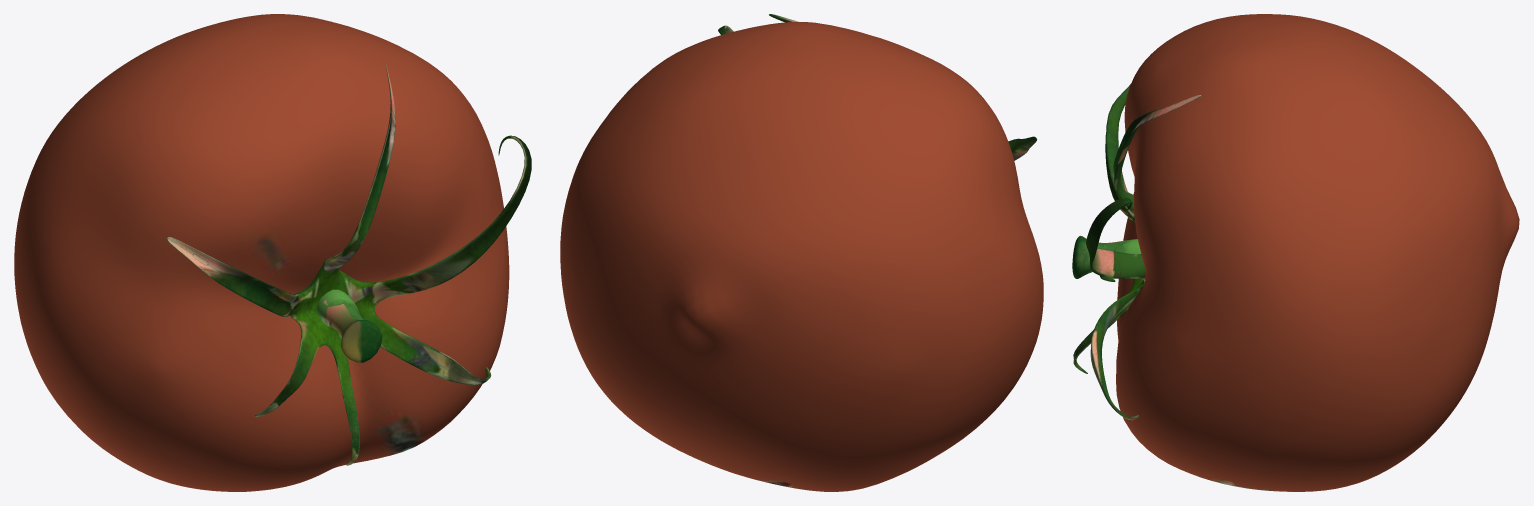
Rendered from tomatorotten5.glb.
3 views of the same model, side by side, from view 1: azimuth 30°, elevation 25°; view 2: azimuth 150°, elevation 25°; view 3: azimuth 270°, elevation 25° (orthographic). The views are drawn at different scales.
Parts seen in each view (by area): view 1: tomatoripe.005; view 2: tomatoripe.005; view 3: tomatoripe.005.
Part boxes in pixels (left/top/right/bottom): tomatoripe.005: left=14, top=14, right=531, bottom=491; tomatoripe.005: left=560, top=14, right=1043, bottom=491; tomatoripe.005: left=1072, top=14, right=1519, bottom=491.
Size of the model in its own units: 0.0423 by 0.0392 by 0.0375.
3 materials, 3 textured.
